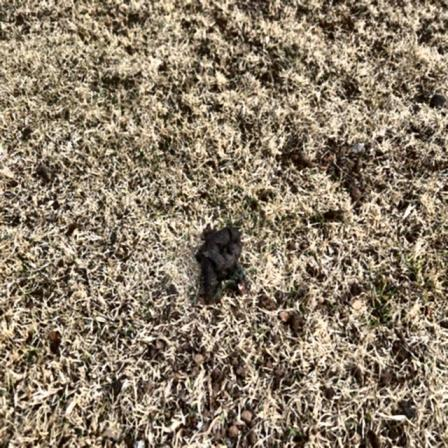dog-poop: (197, 220, 243, 300)
